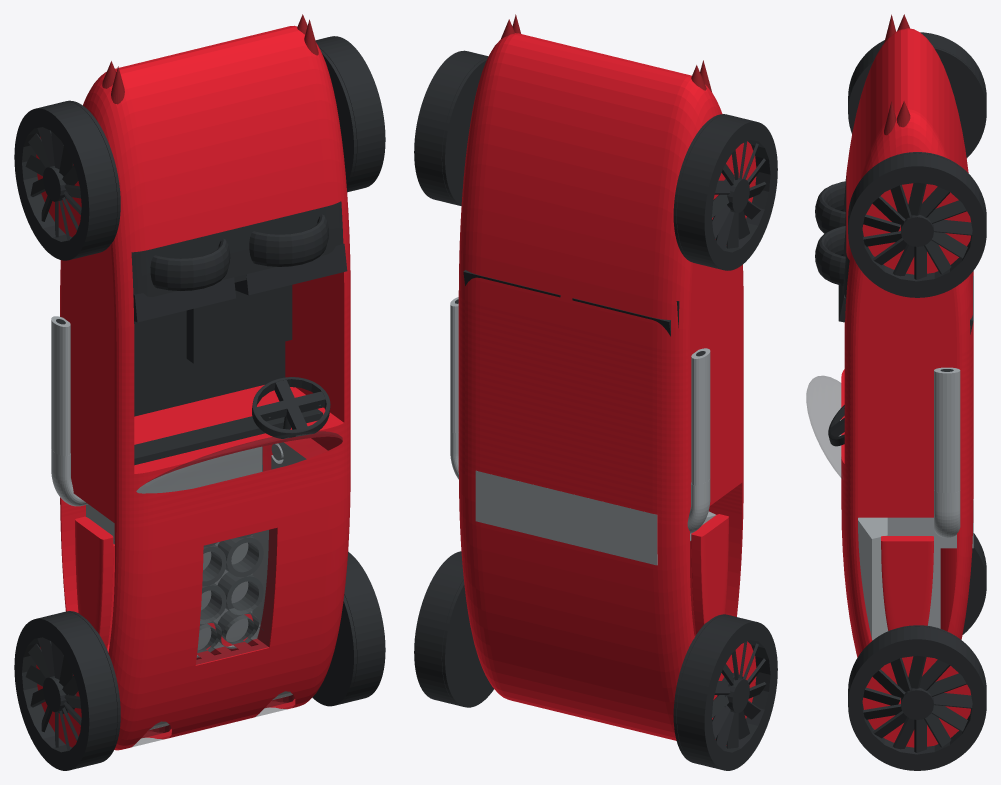
File: tinker.obj
3 views of the same model, side by side, from view 1: azimuth 30°, elevation 25°; view 2: azimuth 150°, elevation 25°; view 3: azimuth 270°, elevation 25° (orthographic). The views are drawn at different scales.
Parts seen in each view (by area): view 1: group_0_15277357, group_0_2829873, group_0_-1037357519, group_0_10988977, group_0_6383466, group_0_9771553; view 2: group_0_15277357, group_0_2829873, group_0_10988977; view 3: group_0_15277357, group_0_2829873, group_0_10988977, group_0_-1037357519, group_0_9771553.
Boxes of the visible parts, x1,y1,x2,y2 form: group_0_15277357: [36, 25, 350, 750]; group_0_2829873: [14, 36, 385, 770]; group_0_-1037357519: [133, 431, 342, 746]; group_0_10988977: [51, 316, 306, 655]; group_0_6383466: [196, 533, 263, 657]; group_0_9771553: [102, 14, 318, 104]; group_0_15277357: [458, 33, 756, 745]; group_0_2829873: [414, 50, 777, 770]; group_0_10988977: [450, 297, 715, 565]; group_0_15277357: [841, 28, 973, 747]; group_0_2829873: [815, 32, 986, 770]; group_0_10988977: [858, 367, 973, 640]; group_0_-1037357519: [806, 376, 843, 479]; group_0_9771553: [884, 14, 910, 135].
Size of the model in its own units: 48 by 108 by 27.33.
